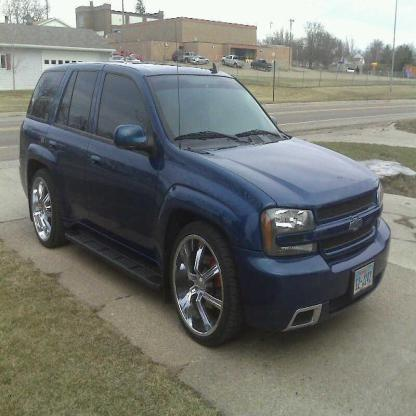Vehicle: (16, 60, 394, 347)
